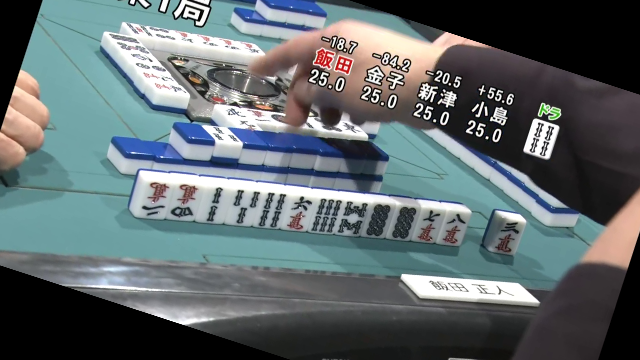Tehai: (122, 162, 530, 266)
